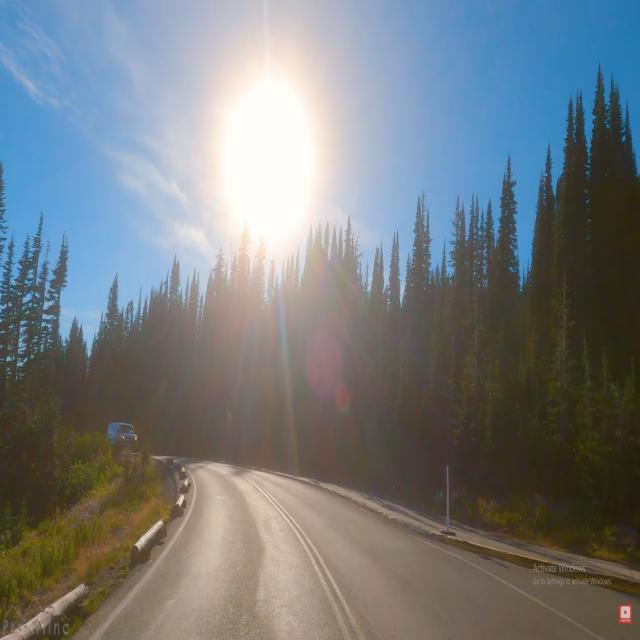sun: (191, 44, 345, 278)
